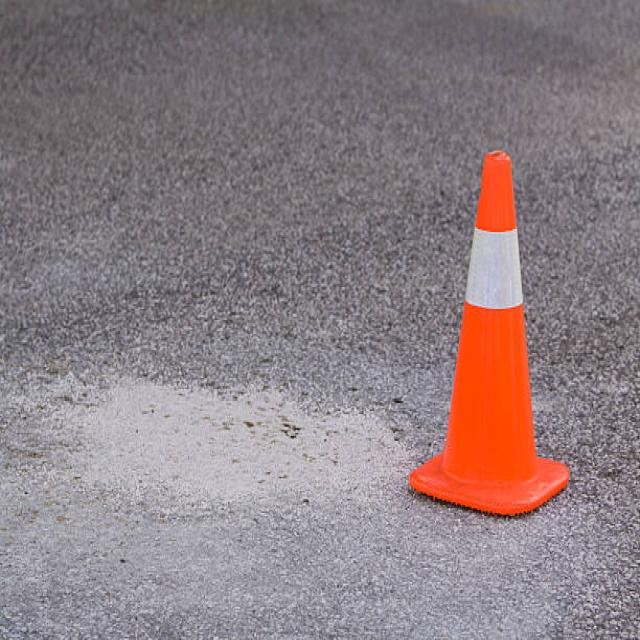Traffic Cone: (404, 122, 586, 539)
